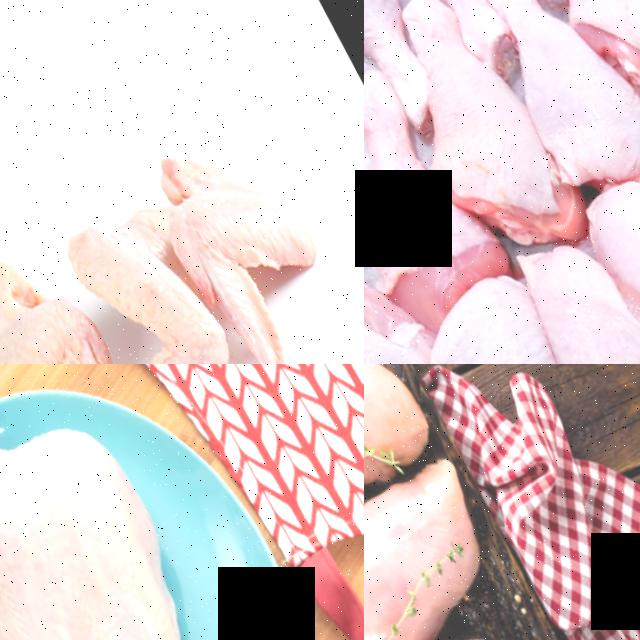chicken breast: (0, 367, 269, 640), (364, 429, 526, 640)
chicken thigh: (382, 0, 580, 251), (460, 0, 640, 196), (364, 64, 495, 317), (496, 211, 640, 364), (401, 270, 619, 364), (518, 0, 640, 128), (364, 0, 442, 118), (366, 0, 530, 54)
chicken wing: (33, 186, 260, 364), (0, 225, 146, 364)
